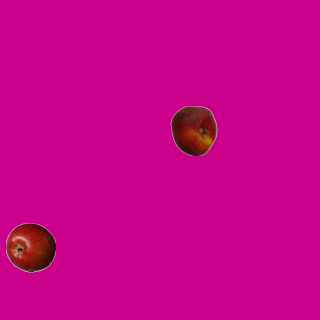Apple Braeburn: (5, 222, 55, 272)
Nectarine Flat: (168, 105, 218, 155)
